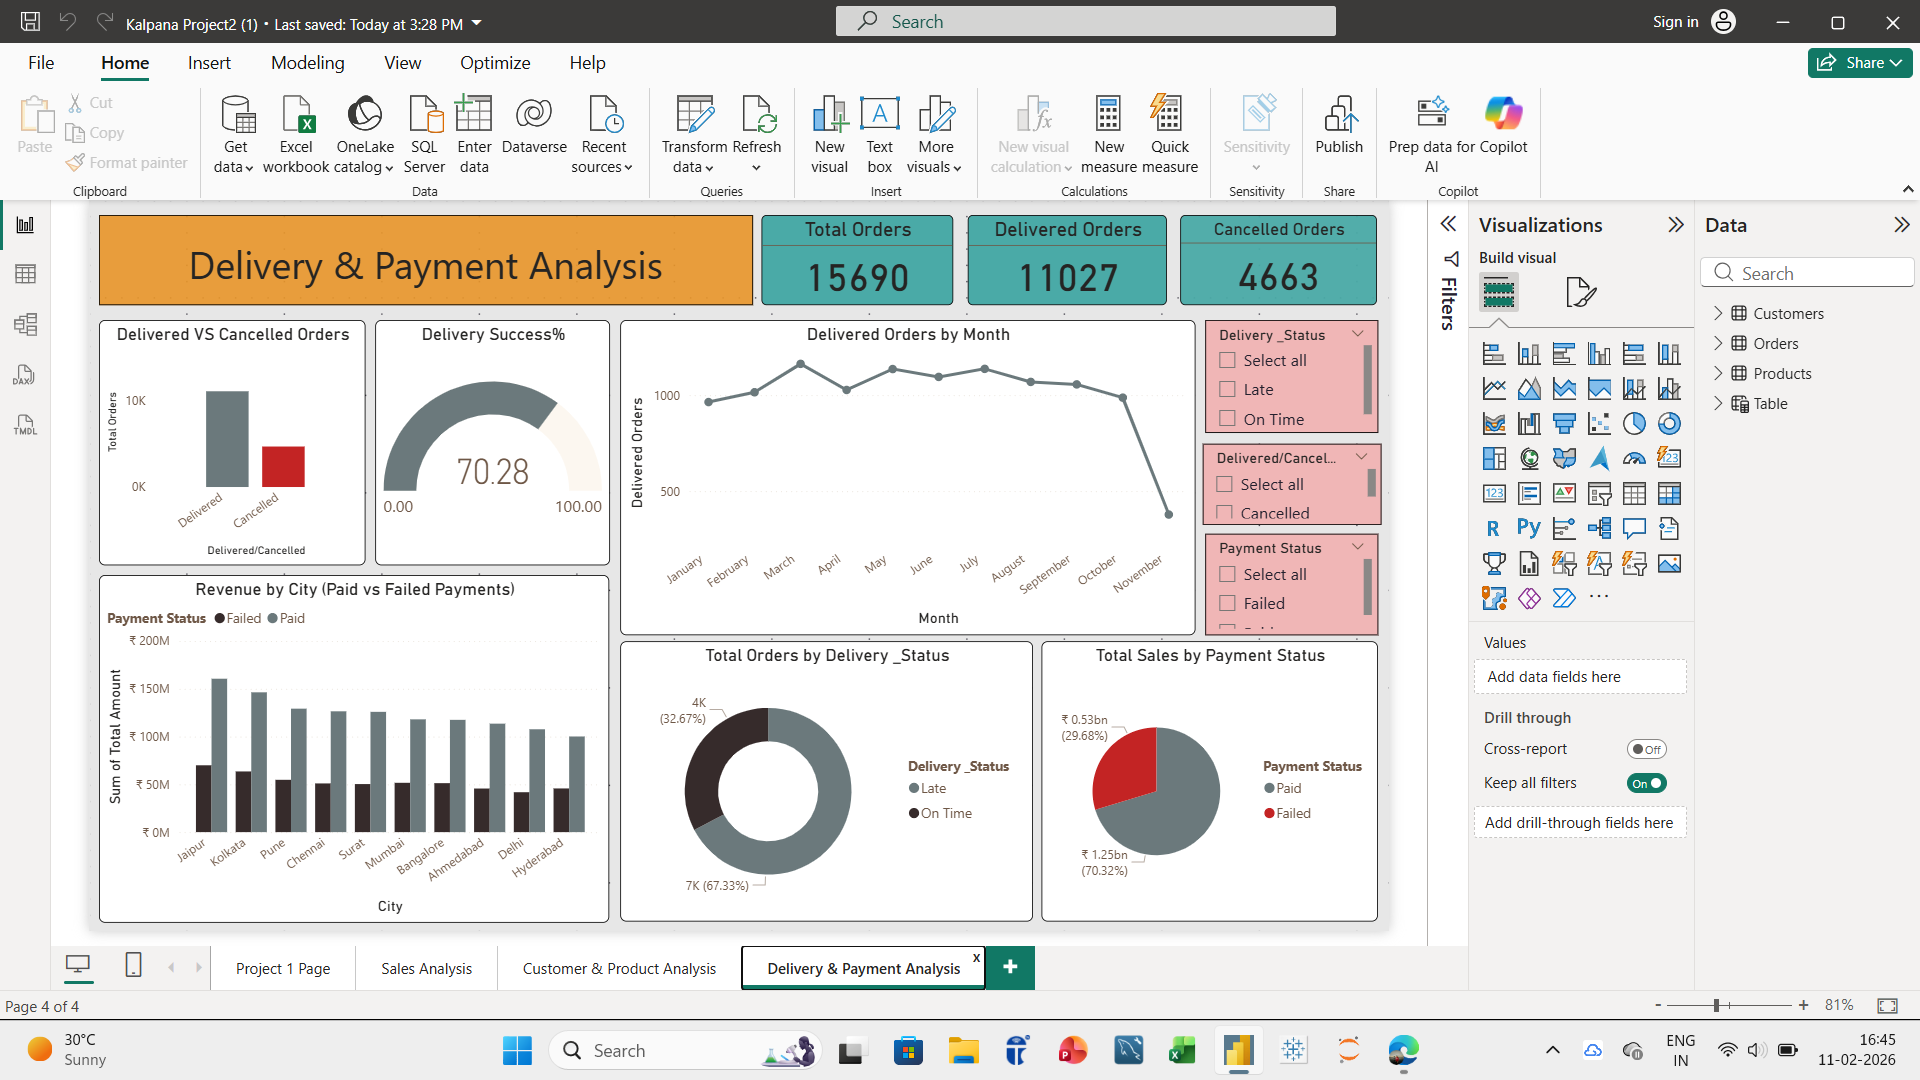

This screenshot's page, from the dashboard's own definition file:
{"tool":"powerbi","page":{"name":"Delivery & Payment Analysis","canvas":[1280,720],"ordinal":3},"visuals":[{"type":"columnChart","title":"Delivered VS Cancelled Orders","fields":{"Category":["Orders.Delivered/Cancelled"],"Y":["Table.Total Orders"]},"box":[10,118.8,262.5,241.2],"z":0},{"type":"donutChart","fields":{"Y":["Table.Total Orders"],"Category":["Orders.Delivery _Status"]},"box":[522.5,435,406.2,276.2],"z":1000},{"type":"pieChart","fields":{"Y":["Table.Total Sales"],"Category":["Orders.Payment Status"]},"box":[937.5,435,331.2,276.2],"z":2000},{"type":"gauge","fields":{"Y":["Table.Delivery Success%"]},"box":[281.2,118.8,231.2,241.2],"z":3000},{"type":"textbox","box":[10,15,643.8,88.8],"z":4000},{"type":"clusteredColumnChart","title":"Revenue by City (Paid vs Failed Payments)","fields":{"Category":["Customers.City"],"Y":["Orders.Total Amount"],"Series":["Orders.Payment Status"]},"box":[10,368.8,502.5,342.5],"z":5000},{"type":"card","title":"Total Orders","fields":{"Values":["Table.Total Orders"]},"box":[662.5,15,188.8,88.8],"z":6000},{"type":"slicer","fields":{"Values":["Orders.Delivered/Cancelled"]},"box":[1096.7,240.1,176.1,79.6],"z":7000},{"type":"slicer","fields":{"Values":["Orders.Payment Status"]},"box":[1098.8,328.8,170,100],"z":8000},{"type":"slicer","fields":{"Values":["Orders.Delivery _Status"]},"box":[1098.8,118.8,170,111.2],"z":9000},{"type":"lineChart","fields":{"Category":["Orders.Delivery Date.Variation.Date Hierarchy.Month"],"Y":["Table.Delivered Orders"]},"box":[522.5,118.8,566.2,310],"z":10000},{"type":"card","title":"Delivered Orders","fields":{"Values":["Table.Delivered Orders"]},"box":[865,15,196.2,88.8],"z":11000},{"type":"card","title":"Cancelled Orders","fields":{"Values":["Table.Cancelled Orders"]},"box":[1075,15,193.8,88.8],"z":12000}]}

Visuals, with their boxes on the page's 1280x720 design canvas (x1, y1, x2, y2). These are canvas units, not pixel positions in the 1920x1080 screenshot, which may show the page scaled, cropped or inside an application window:
"Delivered VS Cancelled Orders" columnChart: <bbox>10, 119, 272, 360</bbox>
donutChart - Table.Total Orders x Orders.Delivery _Status: <bbox>522, 435, 929, 711</bbox>
pieChart - Table.Total Sales x Orders.Payment Status: <bbox>938, 435, 1269, 711</bbox>
gauge - Table.Delivery Success%: <bbox>281, 119, 512, 360</bbox>
textbox: <bbox>10, 15, 654, 104</bbox>
"Revenue by City (Paid vs Failed Payments)" clusteredColumnChart: <bbox>10, 369, 512, 711</bbox>
"Total Orders" card: <bbox>662, 15, 851, 104</bbox>
slicer - Orders.Delivered/Cancelled: <bbox>1097, 240, 1273, 320</bbox>
slicer - Orders.Payment Status: <bbox>1099, 329, 1269, 429</bbox>
slicer - Orders.Delivery _Status: <bbox>1099, 119, 1269, 230</bbox>
lineChart - Orders.Delivery Date.Variation.Date Hierarchy.Month x Table.Delivered Orders: <bbox>522, 119, 1089, 429</bbox>
"Delivered Orders" card: <bbox>865, 15, 1061, 104</bbox>
"Cancelled Orders" card: <bbox>1075, 15, 1269, 104</bbox>
